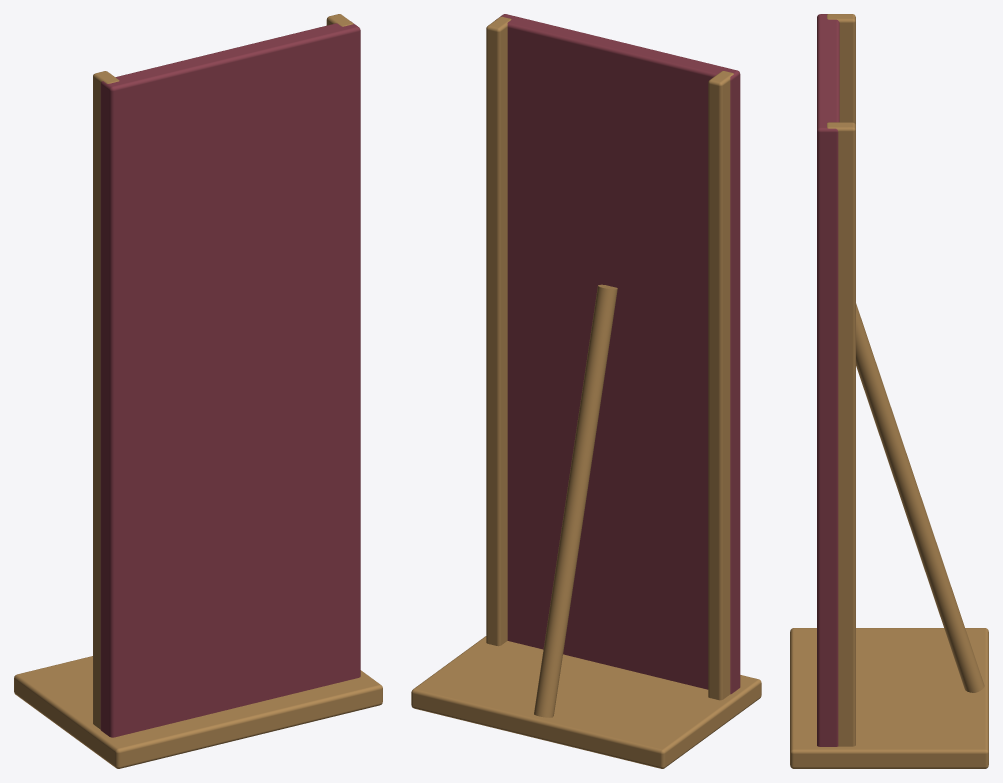
File: abandoned-puppet-theatre-and-prop-vault-stage-wing-pan-fad76803.glb
3 renders of one model, left to right at view 1: azimuth 30°, elevation 25°; view 2: azimuth 150°, elevation 25°; view 3: azimuth 270°, elevation 25°, orthographic. The views are drawn at different scales.
Visible parts, largest first — view 1: stage-wing-panel; view 2: stage-wing-panel; view 3: stage-wing-panel.
Part boxes in pixels (x1=…): stage-wing-panel: x1=14, y1=14, x2=382, y2=768; stage-wing-panel: x1=411, y1=14, x2=761, y2=768; stage-wing-panel: x1=790, y1=14, x2=988, y2=768.
Bounding box in the file's own units: 0.96 × 2.3 × 0.6501.
